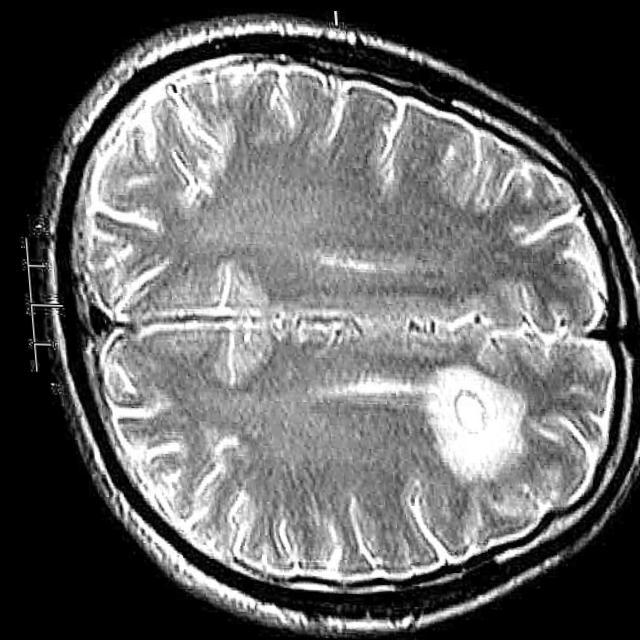Tumor: (419, 361, 518, 476)
